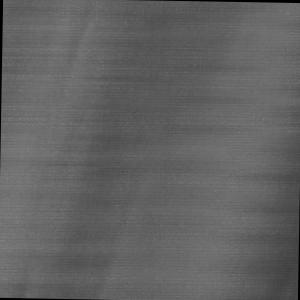Wrinkle: (224, 73, 300, 300), (74, 154, 163, 300), (36, 1, 111, 128), (5, 260, 43, 299)
